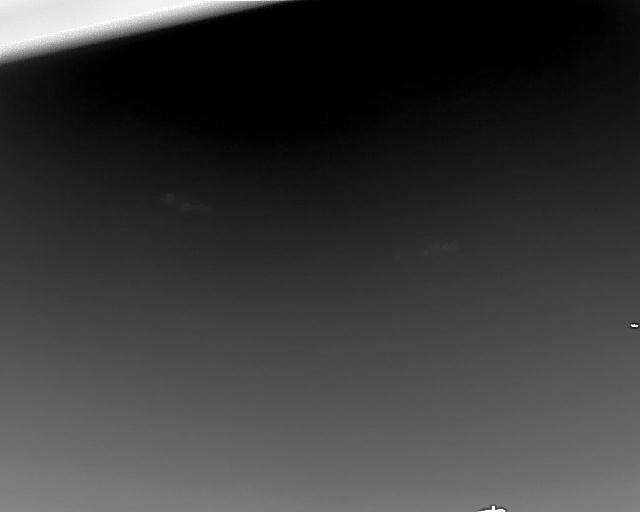fpv-drone: (629, 322, 639, 328)
